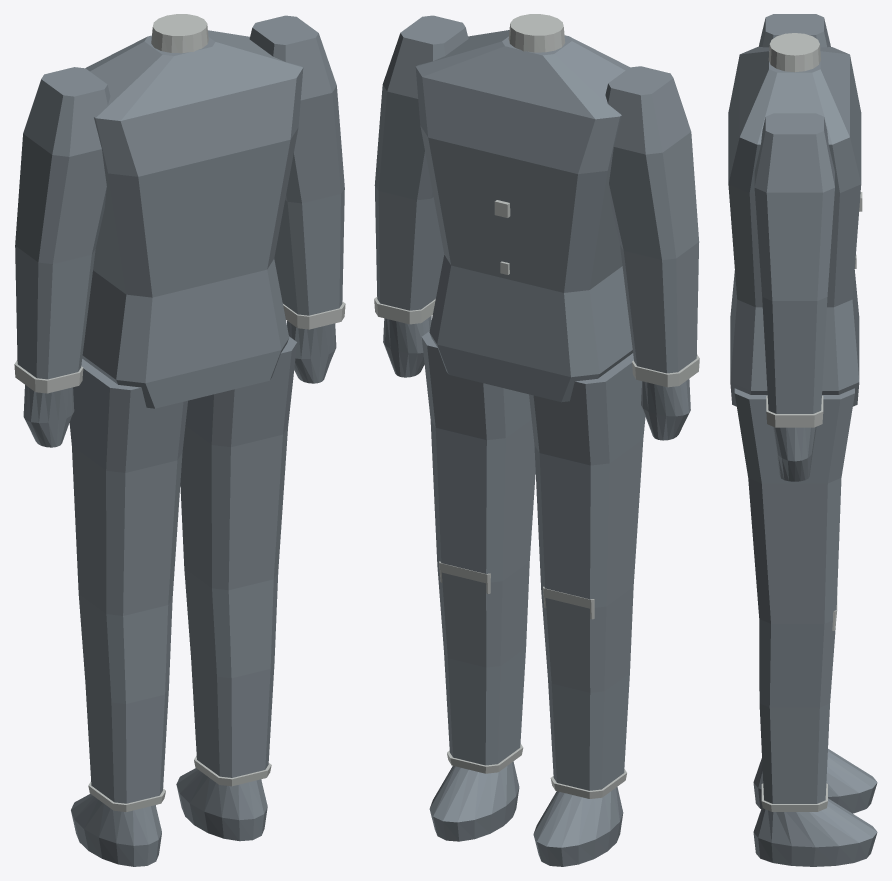
File: CHAR-059.glb
The picture shows the model from 3 angles, left to right: view 1: azimuth 30°, elevation 25°; view 2: azimuth 150°, elevation 25°; view 3: azimuth 270°, elevation 25°; orthographic projection. The views are drawn at different scales.
Visible parts, largest first — view 1: 精细体素成年人体母版A（直线肩胯）; view 2: 精细体素成年人体母版A（直线肩胯）; view 3: 精细体素成年人体母版A（直线肩胯）.
Boxes of the visible parts, box(x1,y1,x2,y2) form: 精细体素成年人体母版A（直线肩胯）: box(14, 14, 345, 866); 精细体素成年人体母版A（直线肩胯）: box(374, 14, 699, 866); 精细体素成年人体母版A（直线肩胯）: box(728, 14, 877, 866).
Bounding box in the file's own units: 0.5883 × 1.47 × 0.2538.
2 materials, 2 textured.
